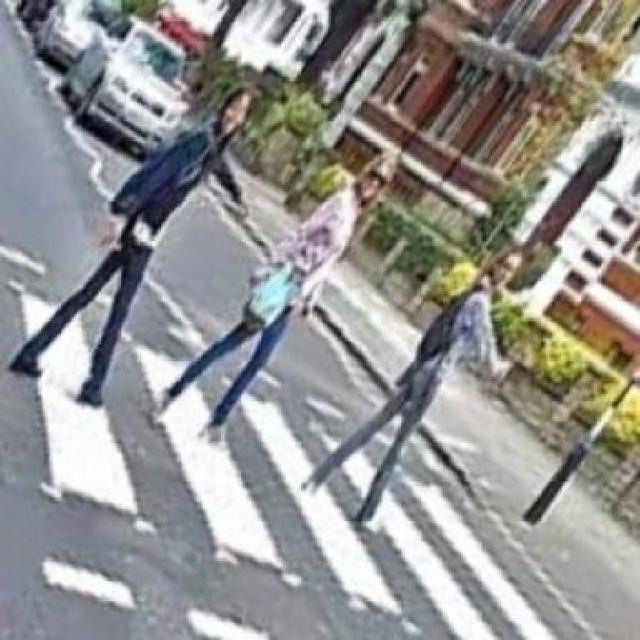Person: (8, 73, 260, 424), (150, 125, 396, 446), (298, 215, 522, 532)
